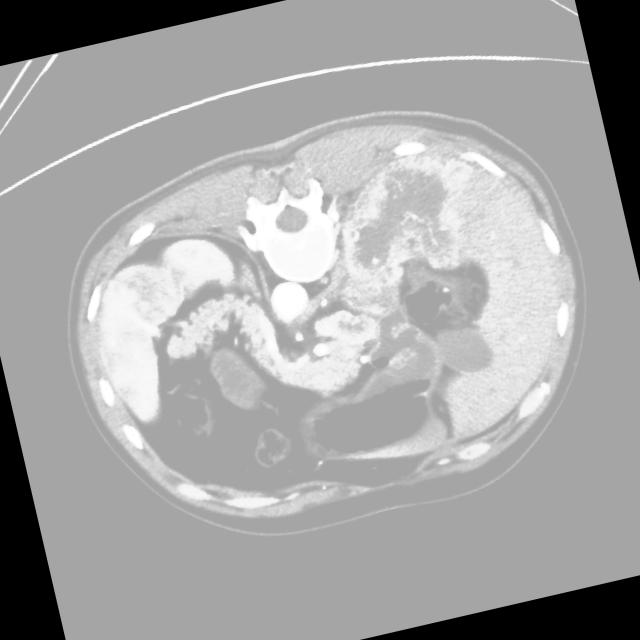TUMOR: (68, 212, 519, 559)
